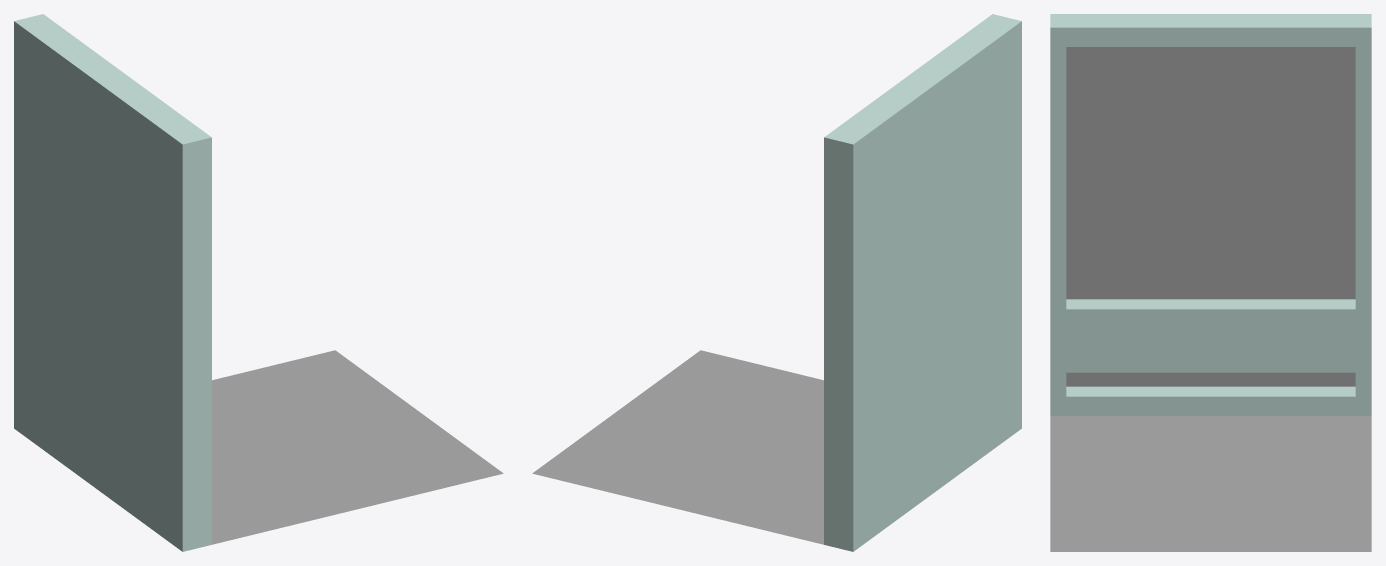
Rendered from Window Tile.fbx.
The picture shows the model from 3 angles, left to right: view 1: azimuth 30°, elevation 25°; view 2: azimuth 150°, elevation 25°; view 3: azimuth 270°, elevation 25°; orthographic projection. The views are drawn at different scales.
Visible parts, largest first — view 1: pPlane2; view 2: pPlane2; view 3: pPlane2.
Part boxes in pixels (x1=…): pPlane2: x1=14, y1=14, x2=503, y2=551; pPlane2: x1=532, y1=14, x2=1021, y2=551; pPlane2: x1=1050, y1=14, x2=1371, y2=551.
Size of the model in its own units: 3.3 by 4 by 3.
